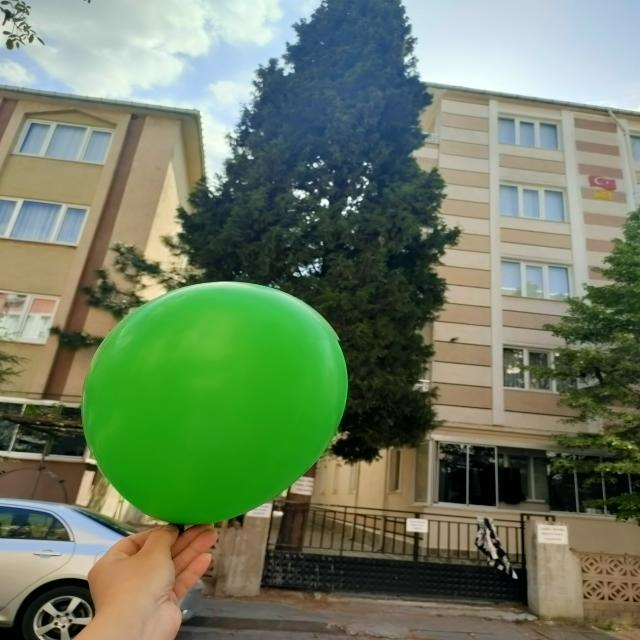green: (85, 283, 349, 526)
